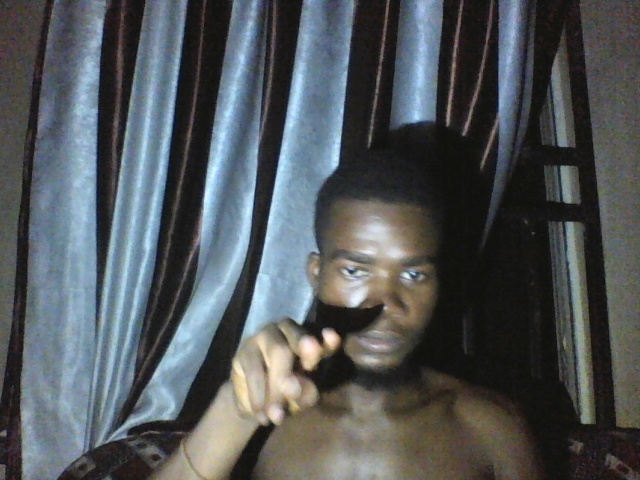no: (223, 314, 347, 435)
